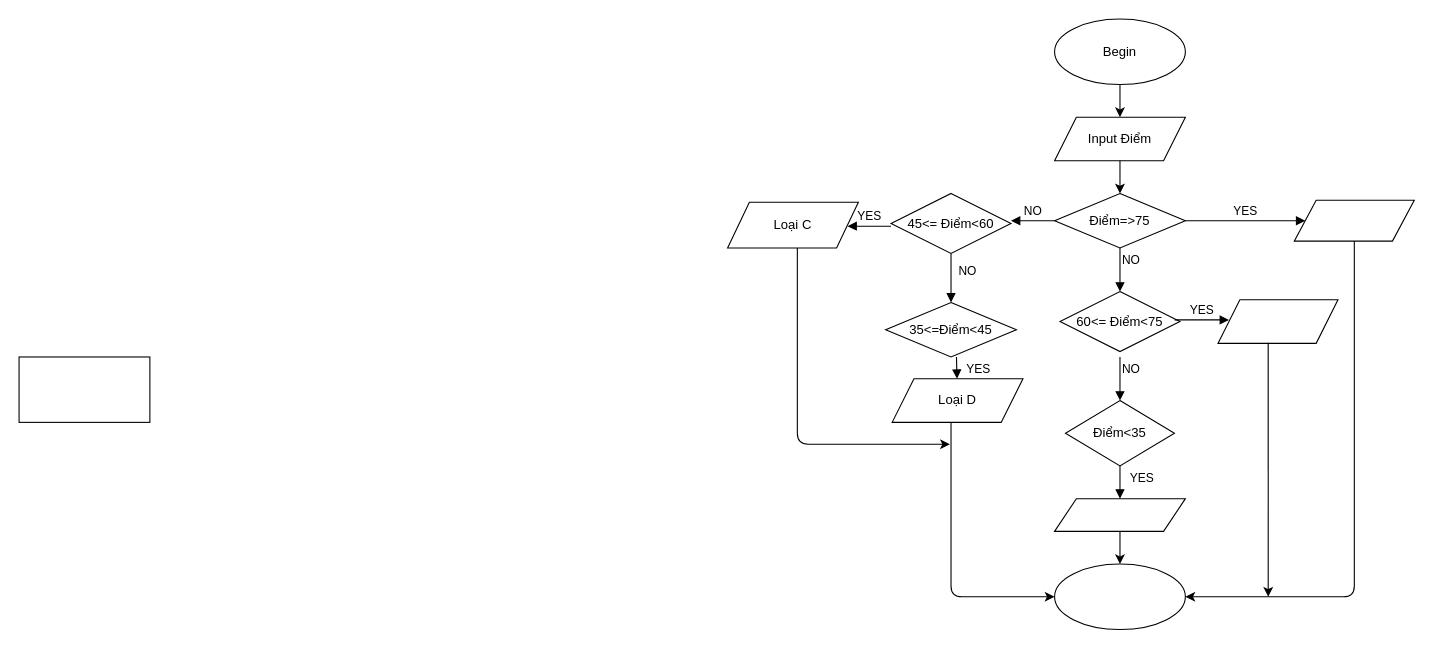
Image size: 1433x649. Some labels were removed from this diagram. The centre of each missing label's shape, as x and y in pixels:
"END" goes at point (1119, 596).
"Loại A" goes at point (1353, 220).
"Loại B" goes at point (1277, 321).
"Loại E" goes at point (1119, 514).
